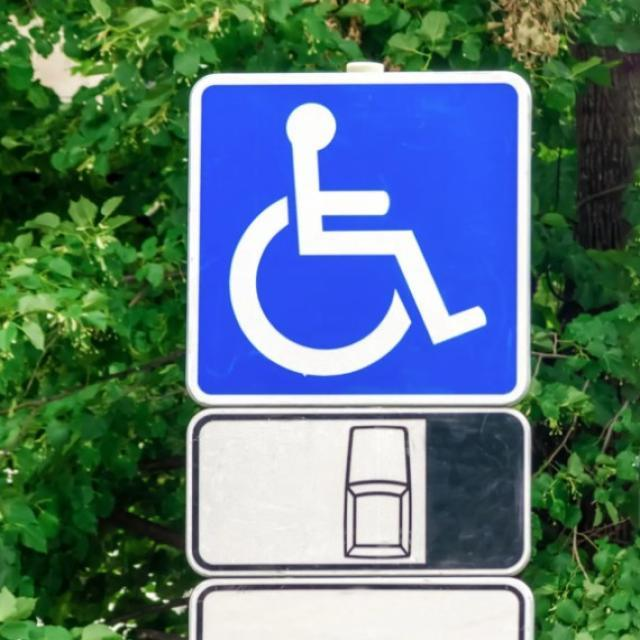symbol_of_access: (185, 67, 530, 409)
